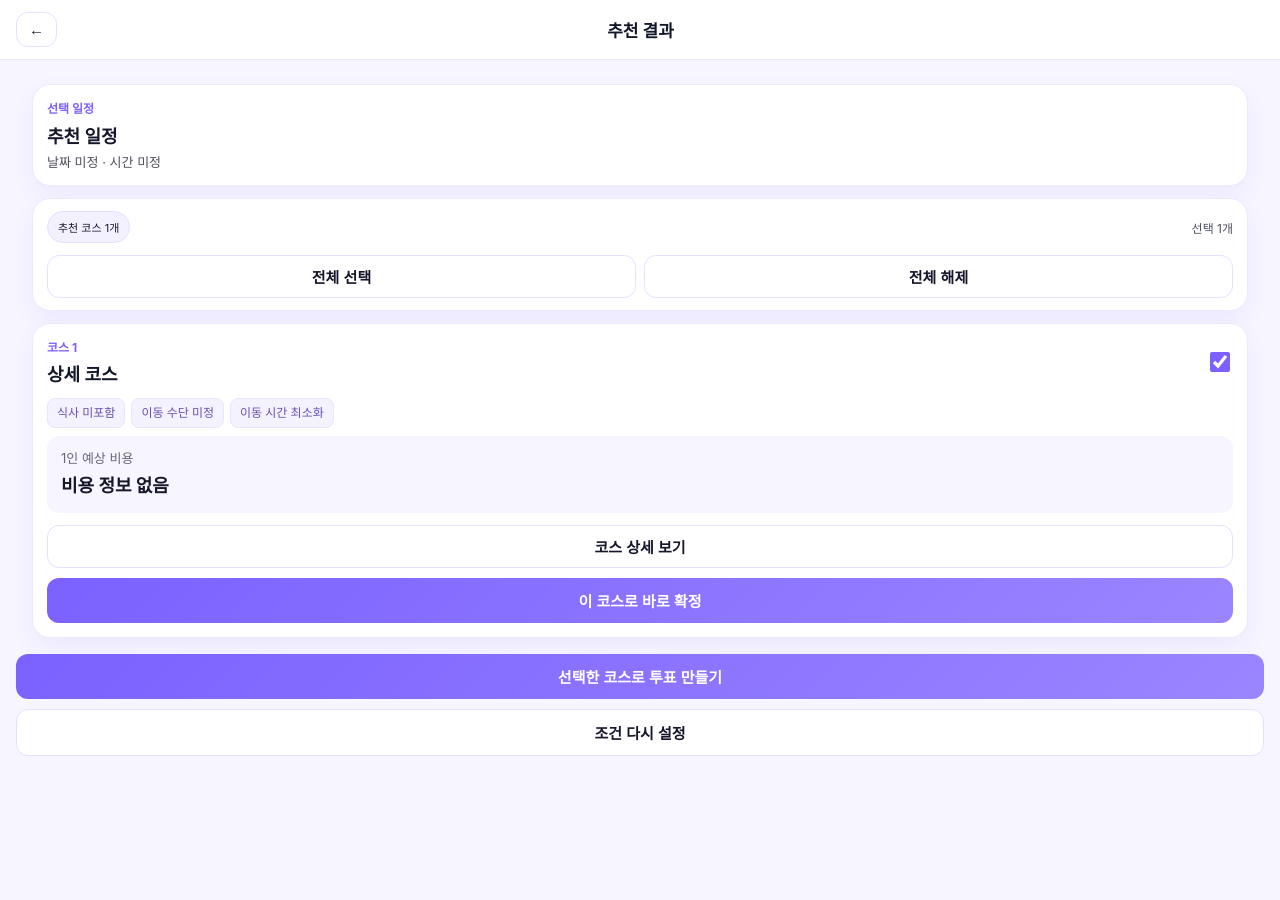
Scenario: 기본 카드는 요약만 보여주고 상세보기 아래에 장소·비용·체류 시간을 펼친다
Check: the text "식당" is not shown
Check: the text "1인 15,000원" is not shown
Click the button "코스 상세 보기" at (640, 546), box [47,525,1233,568]
(page scrolled)
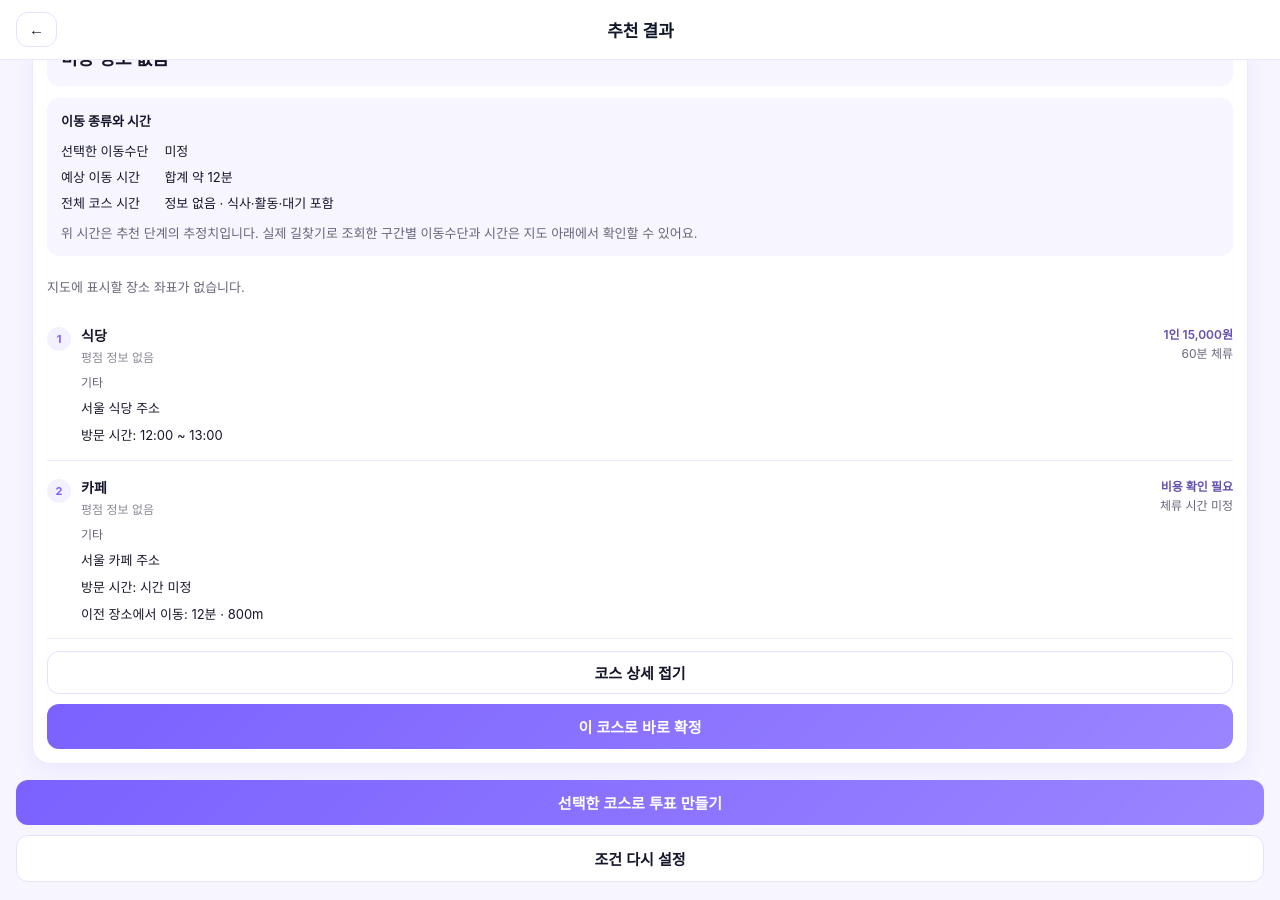
Check: the button "코스 상세 접기" is expanded
Check: the text "서울 식당 주소" is shown, box [81,400,160,416]
Check: the text "방문 시간: 12:00 ~ 13:00" is shown, box [81,427,223,443]
Click the button "코스 상세 접기" at (640, 673), box [47,651,1233,694]
(page scrolled)
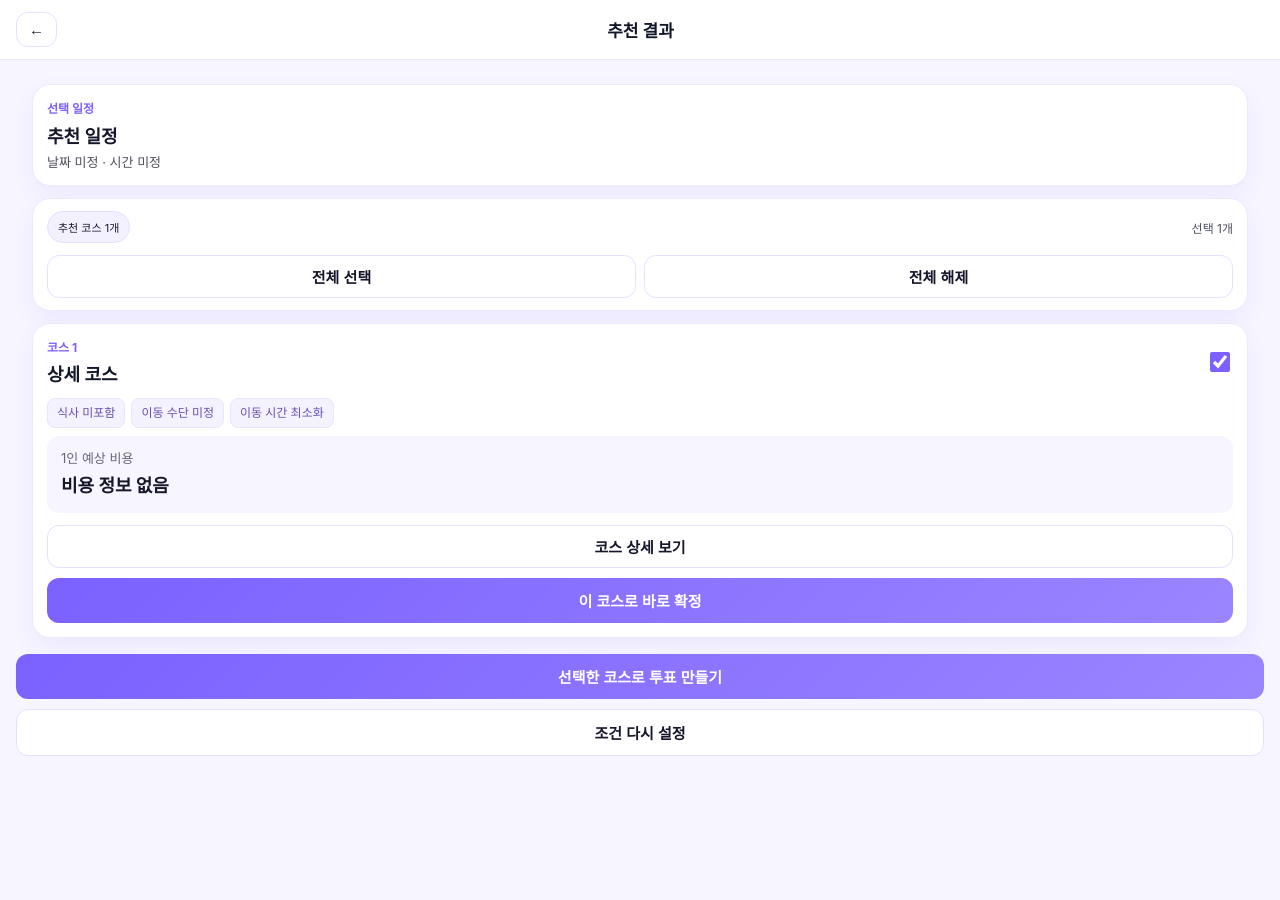
Check: the text "서울 식당 주소" is gone
Check: the text "1인 15,000원" is gone
Check: the text "60분 체류" is gone
